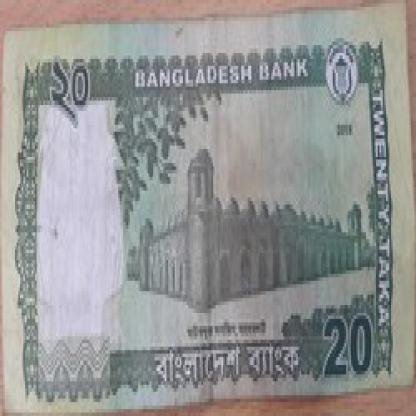Twenty: (316, 312, 378, 378), (46, 62, 110, 125)
